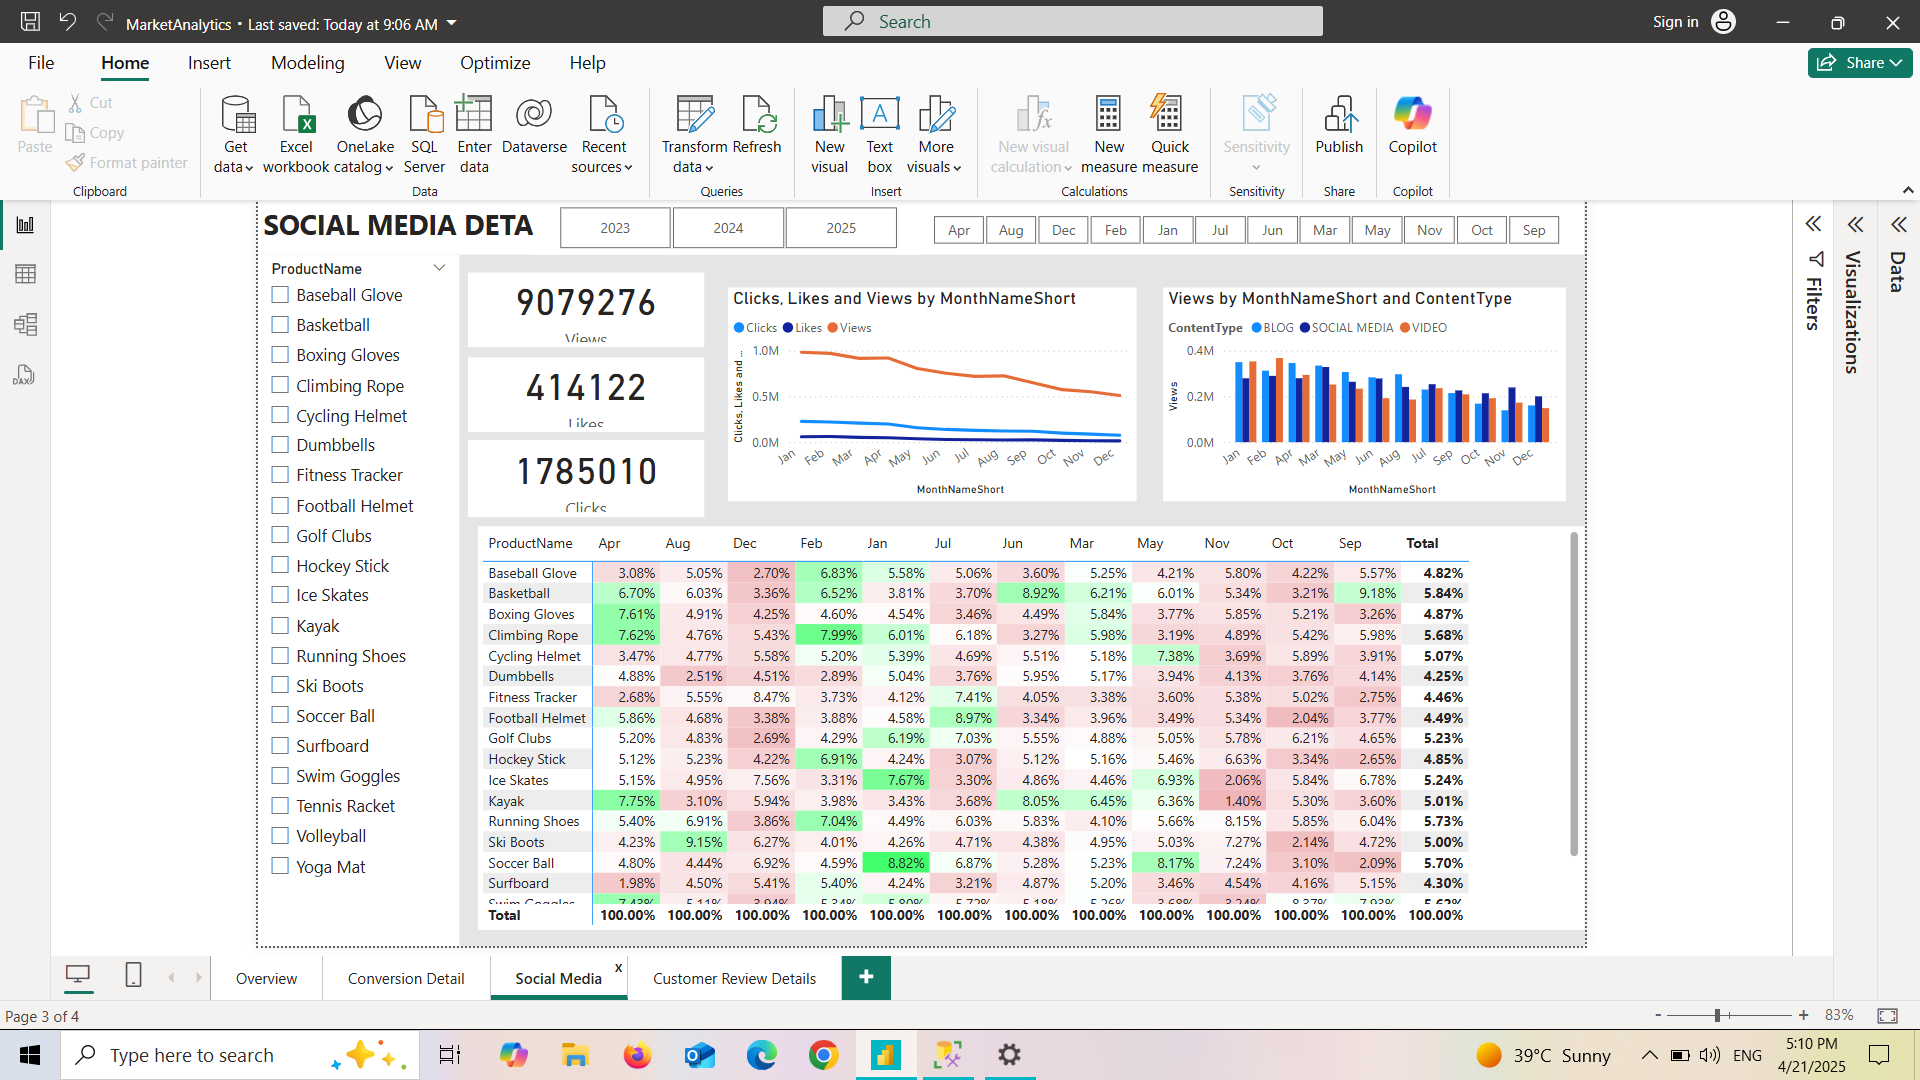

The page's visual inventory and layout, read from the dashboard file:
{"tool":"powerbi","page":{"name":"Social Media","canvas":[1280,720],"ordinal":2},"visuals":[{"type":"textbox","box":[0,0,1280,53.1],"z":0},{"type":"slicer","fields":{"Values":["dm_products.ProductName"]},"box":[0,53.1,194.2,667.2],"z":1000},{"type":"card","fields":{"Values":["_Calculations.Views"]},"box":[202.7,70,228,72.4],"z":2000},{"type":"card","fields":{"Values":["_Calculations.Likes"]},"box":[202.7,152,228,72.4],"z":3000},{"type":"card","fields":{"Values":["_Calculations.Clicks"]},"box":[202.7,231.6,228,74.8],"z":4000},{"type":"slicer","fields":{"Values":["Calendar.Year"]},"box":[265.4,0,375.2,53.1],"z":5000},{"type":"slicer","fields":{"Values":["Calendar.MonthNameShort"]},"box":[626.1,8.4,653.9,36.2],"z":6000},{"type":"lineChart","fields":{"Category":["Calendar.MonthNameShort"],"Y":["_Calculations.Clicks","_Calculations.Likes","_Calculations.Views"]},"box":[453.6,84.5,394.5,206.3],"z":7000},{"type":"clusteredColumnChart","fields":{"Category":["Calendar.MonthNameShort"],"Y":["_Calculations.Views"],"Series":["fact_engagement_data.ContentType"]},"box":[873.5,84.5,388.5,206.3],"z":8000},{"type":"pivotTable","fields":{"Rows":["dm_products.ProductName"],"Values":["_Calculations.Views"],"Columns":["Calendar.MonthNameShort"]},"box":[212.3,314.9,1067.7,389.7],"z":9000}]}

Visuals, with their boxes on the page's 1280x720 design canvas (x1, y1, x2, y2). These are canvas units, not pixel positions in the 1920x1080 screenshot, which may show the page scaled, cropped or inside an application window:
textbox: <bbox>0, 0, 1280, 53</bbox>
slicer - dm_products.ProductName: <bbox>0, 53, 194, 720</bbox>
card - _Calculations.Views: <bbox>203, 70, 431, 142</bbox>
card - _Calculations.Likes: <bbox>203, 152, 431, 224</bbox>
card - _Calculations.Clicks: <bbox>203, 232, 431, 306</bbox>
slicer - Calendar.Year: <bbox>265, 0, 641, 53</bbox>
slicer - Calendar.MonthNameShort: <bbox>626, 8, 1280, 45</bbox>
lineChart - Calendar.MonthNameShort x _Calculations.Clicks: <bbox>454, 84, 848, 291</bbox>
clusteredColumnChart - Calendar.MonthNameShort x _Calculations.Views: <bbox>874, 84, 1262, 291</bbox>
pivotTable - dm_products.ProductName x _Calculations.Views: <bbox>212, 315, 1280, 705</bbox>
